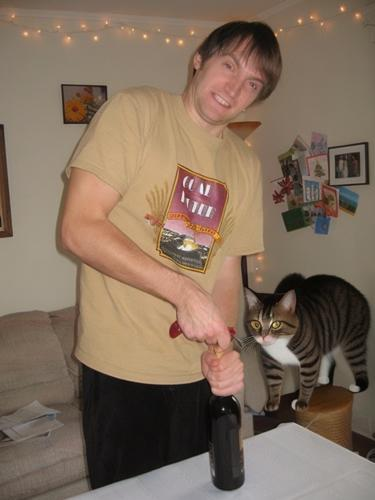bottle: (207, 345, 247, 493)
cat: (243, 273, 372, 412)
person: (62, 20, 283, 493)
person/hand: (175, 276, 229, 346), (201, 347, 244, 396)
person/head: (193, 21, 281, 122)
